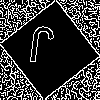J: (25, 25, 56, 74)
